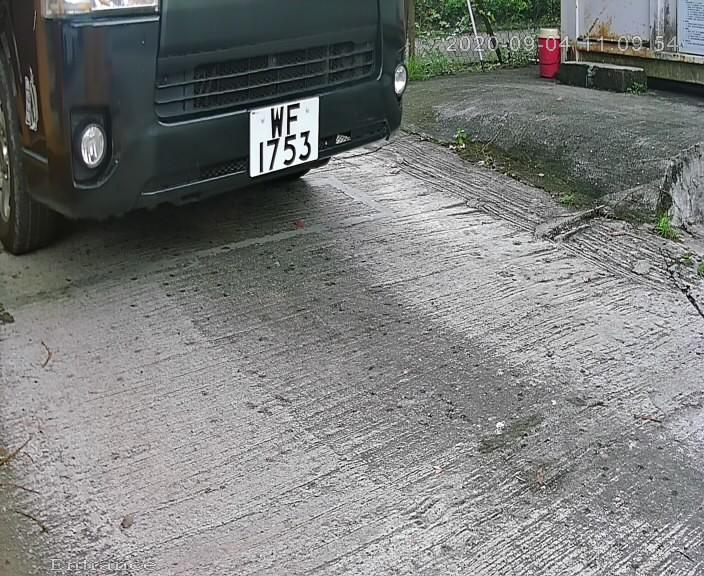Car: (26, 1, 444, 276)
License Plate: (239, 88, 327, 186)
